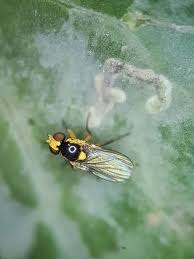Trifoli: (42, 118, 147, 195)
